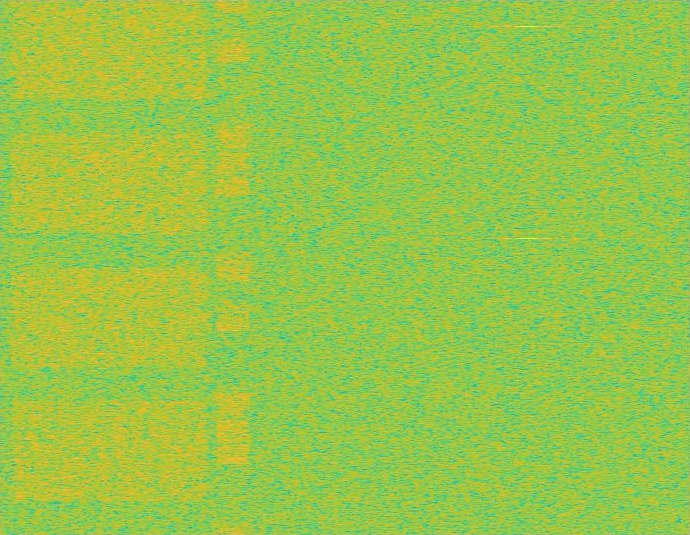5G: (6, 0, 213, 534)
LTE: (216, 0, 250, 534)
Radar: (521, 0, 534, 534)
